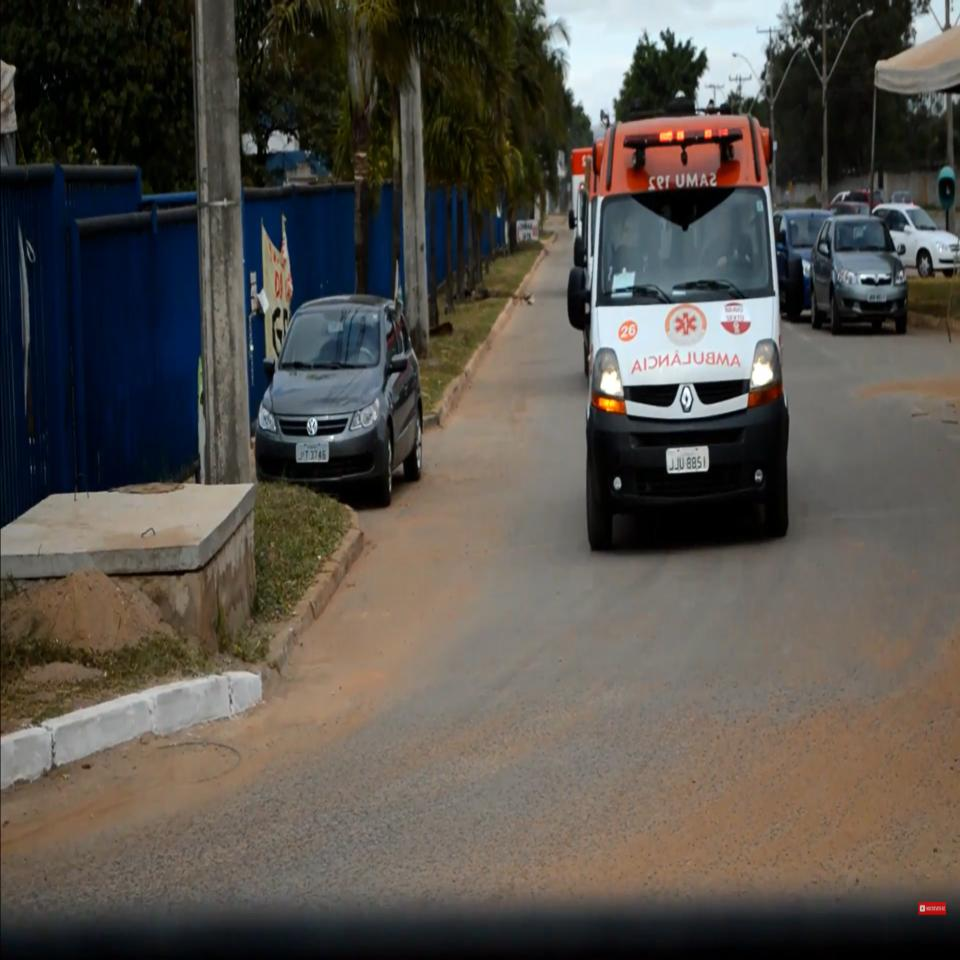bombeiro: (568, 115, 803, 550)
